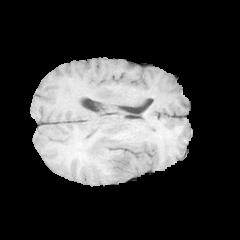glioma: (81, 114, 143, 181)
